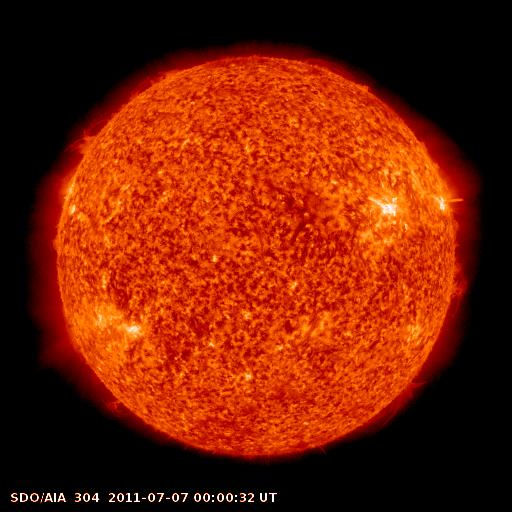prominence: (352, 375, 428, 437), (298, 54, 371, 90), (63, 110, 121, 155), (127, 67, 182, 105), (445, 259, 475, 302), (100, 389, 135, 422)
